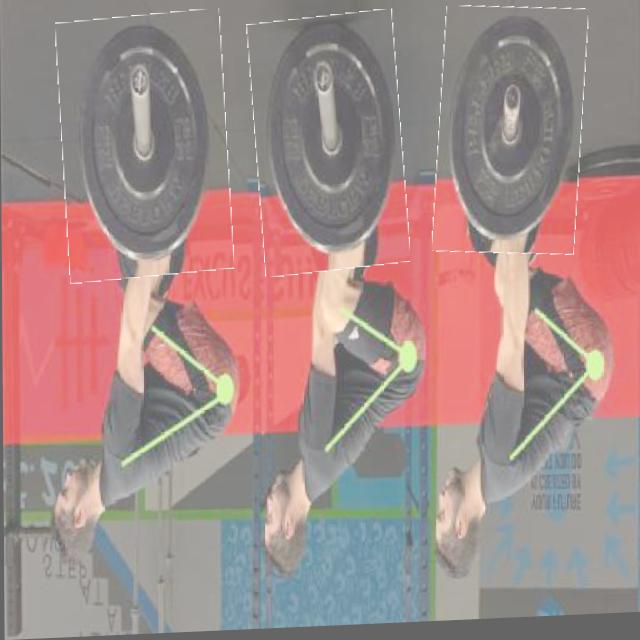barbell: (60, 13, 232, 284), (252, 15, 407, 279), (435, 8, 587, 263)
